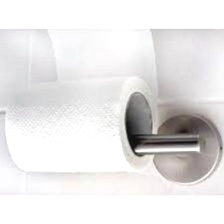tissue: (0, 29, 164, 179)
